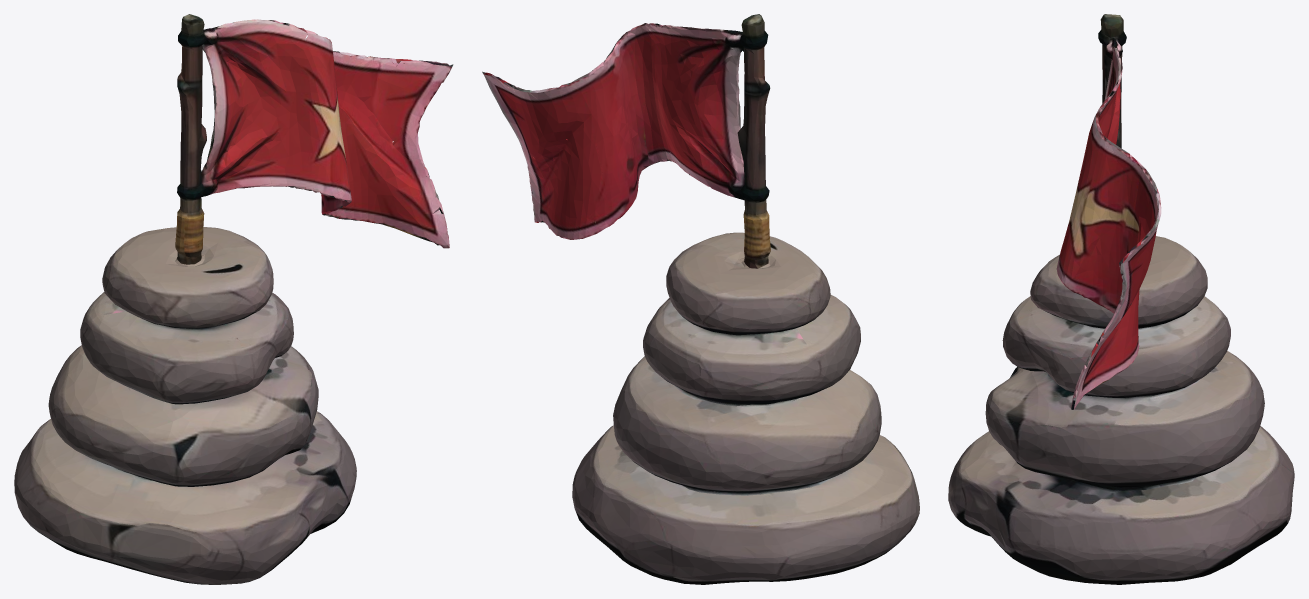
Rendered from summit_flag.glb.
3 renders of one model, left to right at view 1: azimuth 30°, elevation 25°; view 2: azimuth 150°, elevation 25°; view 3: azimuth 270°, elevation 25°, orthographic.
Visible parts, largest first — view 1: tmp92779ahe.ply; view 2: tmp92779ahe.ply; view 3: tmp92779ahe.ply.
Boxes of the visible parts, <box> form: tmp92779ahe.ply: <box>14,14,453,584</box>; tmp92779ahe.ply: <box>482,14,919,584</box>; tmp92779ahe.ply: <box>948,14,1294,584</box>.
Size of the model in its own units: 1.69 by 1.99 by 1.21.
Materials: 1 (1 with a texture image).
